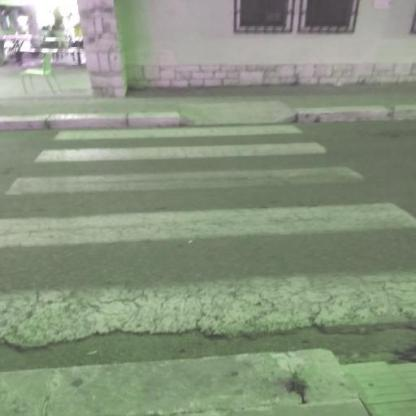crosswalk: (2, 140, 374, 200)
